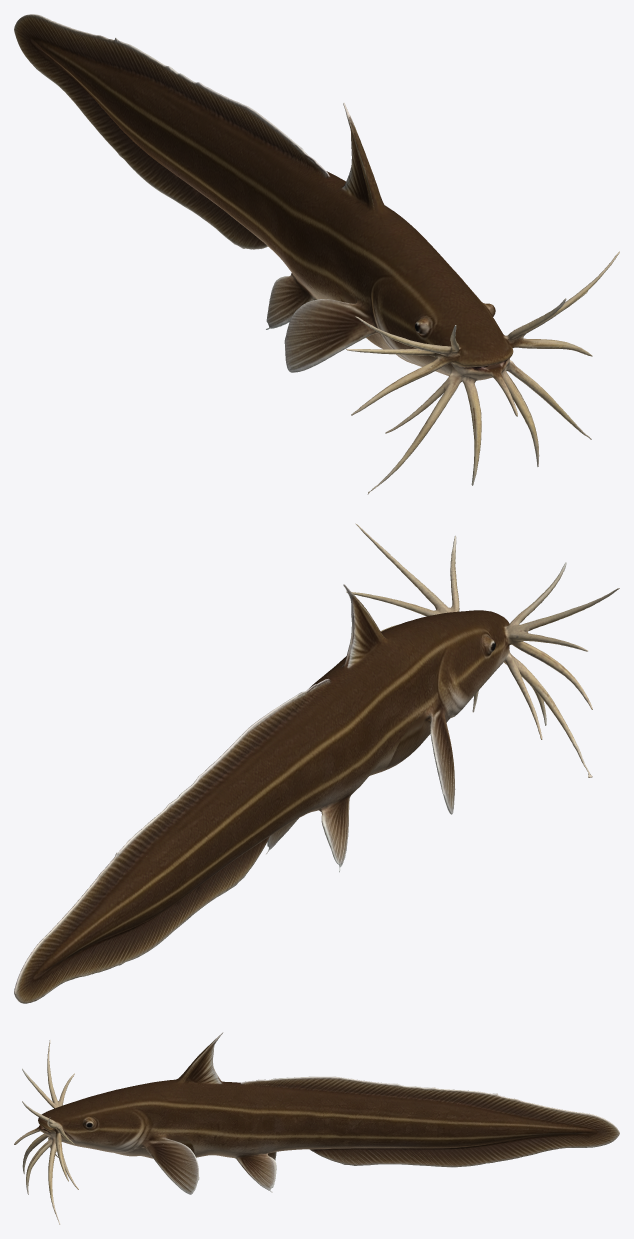
File: gonzui.glb
3 renders of one model, top to bottom at view 1: azimuth 30°, elevation 25°; view 2: azimuth 150°, elevation 25°; view 3: azimuth 270°, elevation 25°, orthographic. The views are drawn at different scales.
Size of the model in its own units: 0.5804 by 0.5554 by 1.91.
1 material, 1 textured.
